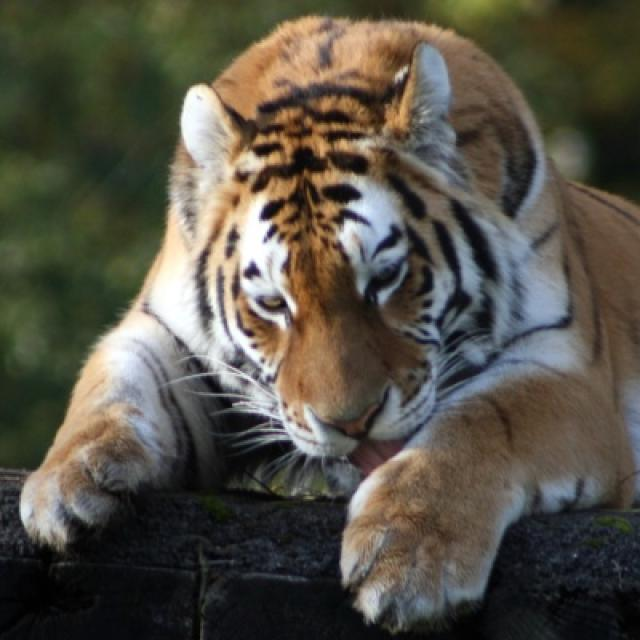Tiger: (16, 18, 638, 622)
